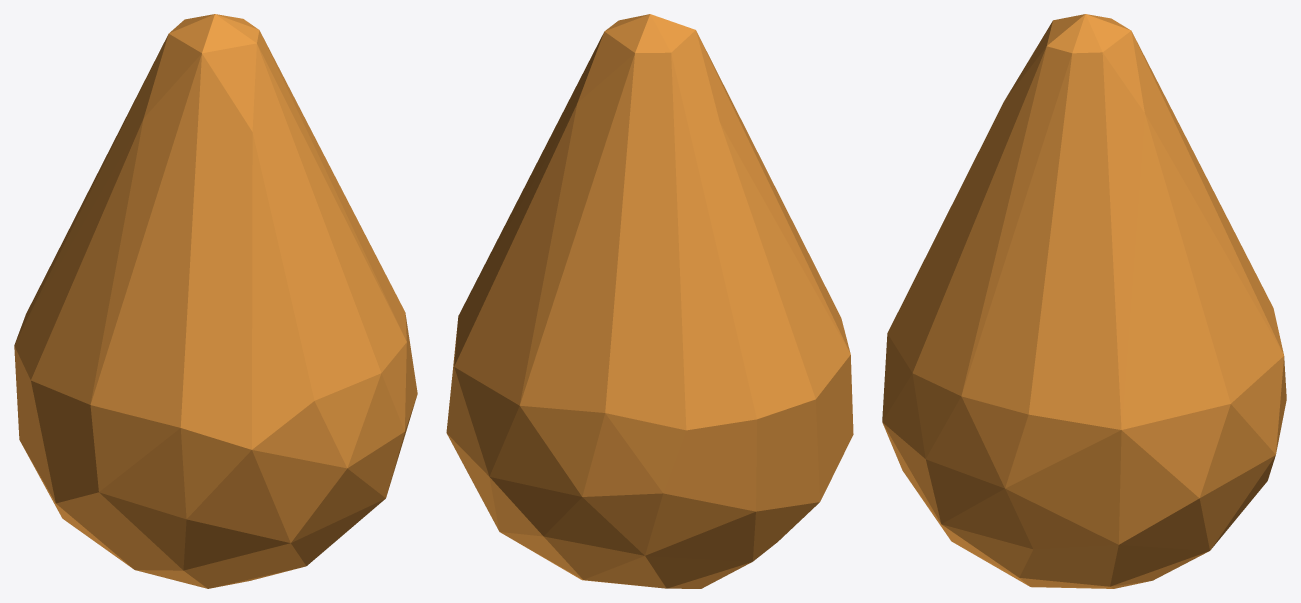
File: droplet.fbx
3 views of the same model, side by side, from view 1: azimuth 30°, elevation 25°; view 2: azimuth 150°, elevation 25°; view 3: azimuth 270°, elevation 25° (orthographic).
Parts seen in each view (by area): view 1: Droplet; view 2: Droplet; view 3: Droplet.
Boxes of the visible parts, <box> form: Droplet: <box>14,14,417,588</box>; Droplet: <box>446,14,853,588</box>; Droplet: <box>882,14,1286,588</box>.
Bounding box in the file's own units: 99.87 × 153 × 100.
